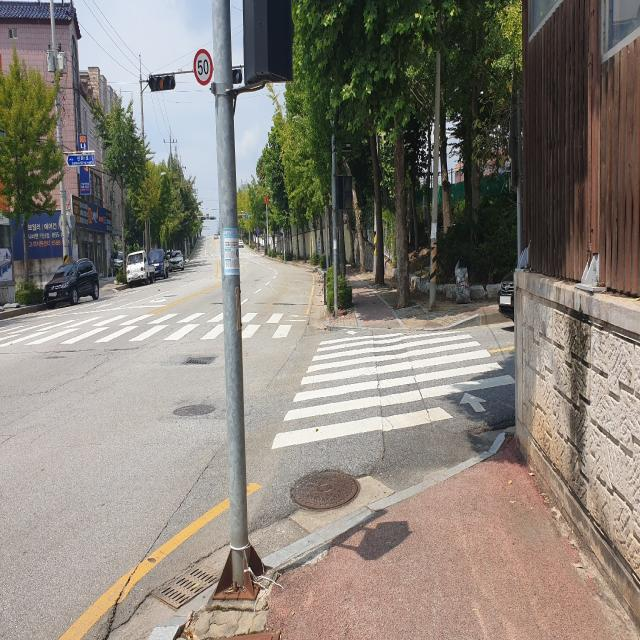횡단보도: (271, 330, 516, 450), (0, 310, 298, 346)
